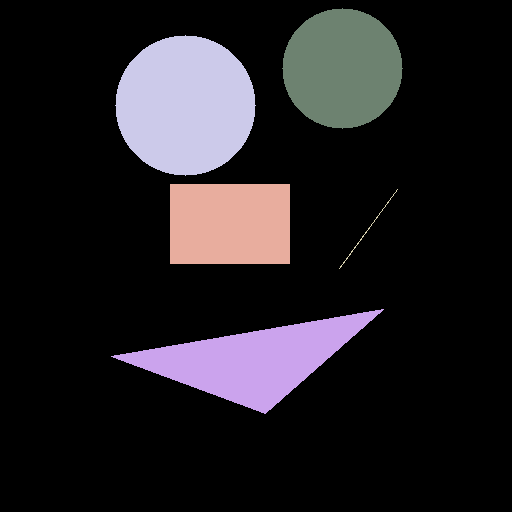circle: (115, 35, 255, 175), (282, 8, 402, 128)
rectangle: (170, 184, 289, 263)
triangle: (111, 309, 383, 413)
